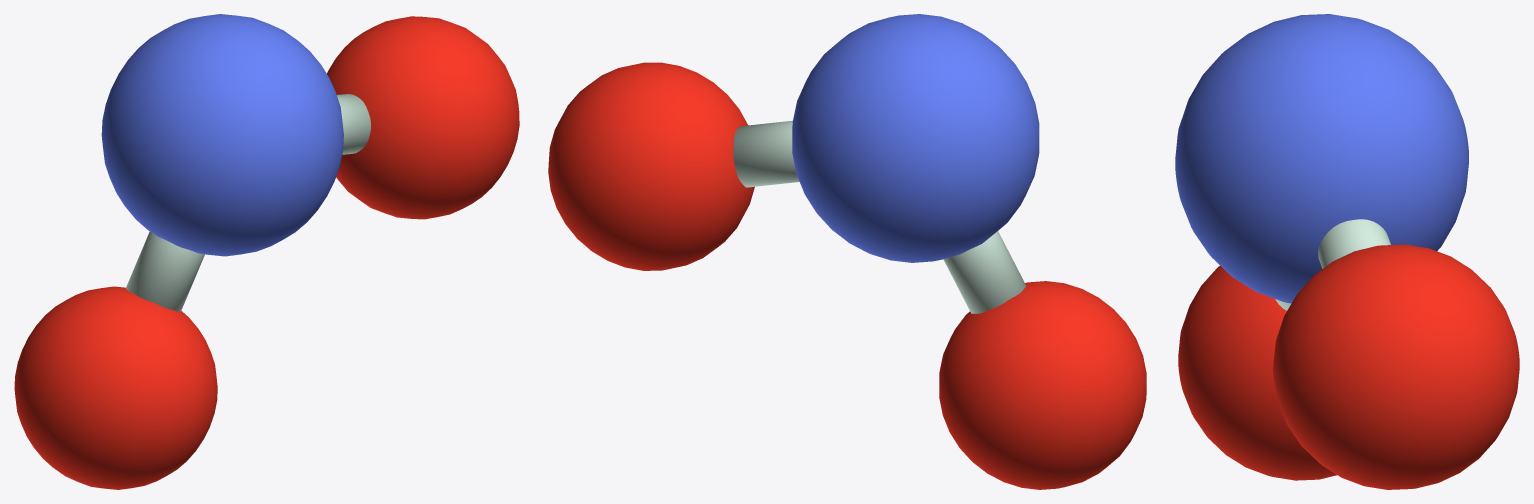
Rendered from compoundModel0.glb.
3 views of the same model, side by side, from view 1: azimuth 30°, elevation 25°; view 2: azimuth 150°, elevation 25°; view 3: azimuth 270°, elevation 25° (orthographic). The views are drawn at different scales.
Parts seen in each view (by area): view 1: Oxygen, Hydrogen.001, Hydrogen.000, connection.001, connection.000; view 2: Oxygen, Hydrogen.001, Hydrogen.000, connection.001, connection.000; view 3: Oxygen, Hydrogen.000, Hydrogen.001, connection.000.
Part boxes in pixels (x1,y1,x2,y2): Oxygen: [101, 14, 343, 256]; Hydrogen.001: [14, 286, 217, 489]; Hydrogen.000: [327, 16, 519, 219]; connection.001: [126, 231, 204, 311]; connection.000: [337, 94, 370, 154]; Oxygen: [792, 14, 1039, 262]; Hydrogen.001: [939, 281, 1146, 489]; Hydrogen.000: [548, 62, 754, 270]; connection.001: [943, 231, 1025, 313]; connection.000: [733, 120, 799, 187]; Oxygen: [1175, 14, 1468, 303]; Hydrogen.000: [1273, 244, 1519, 489]; Hydrogen.001: [1178, 266, 1337, 480]; connection.000: [1318, 219, 1390, 268].
Bounding box in the file's own units: 2.05 × 1.59 × 0.9758.
